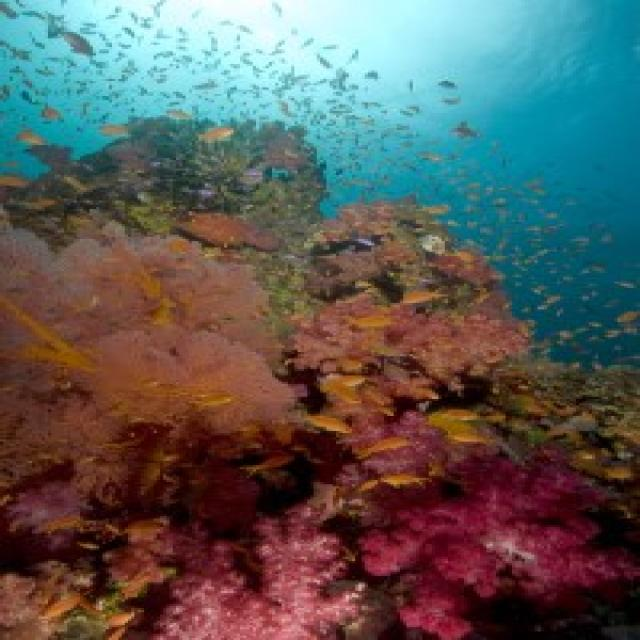Healthy: (1, 227, 295, 556), (366, 458, 638, 639), (14, 116, 324, 255), (286, 289, 529, 432), (151, 509, 385, 639), (305, 202, 503, 312), (308, 411, 478, 496)
